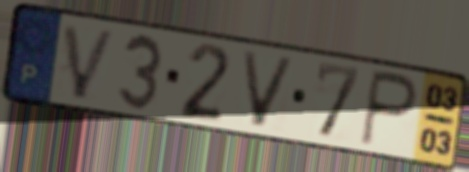2: (177, 41, 233, 125)
3: (115, 32, 166, 113)
7: (314, 59, 364, 142)
P: (356, 66, 421, 151)
V: (60, 20, 120, 103), (239, 48, 299, 131)
